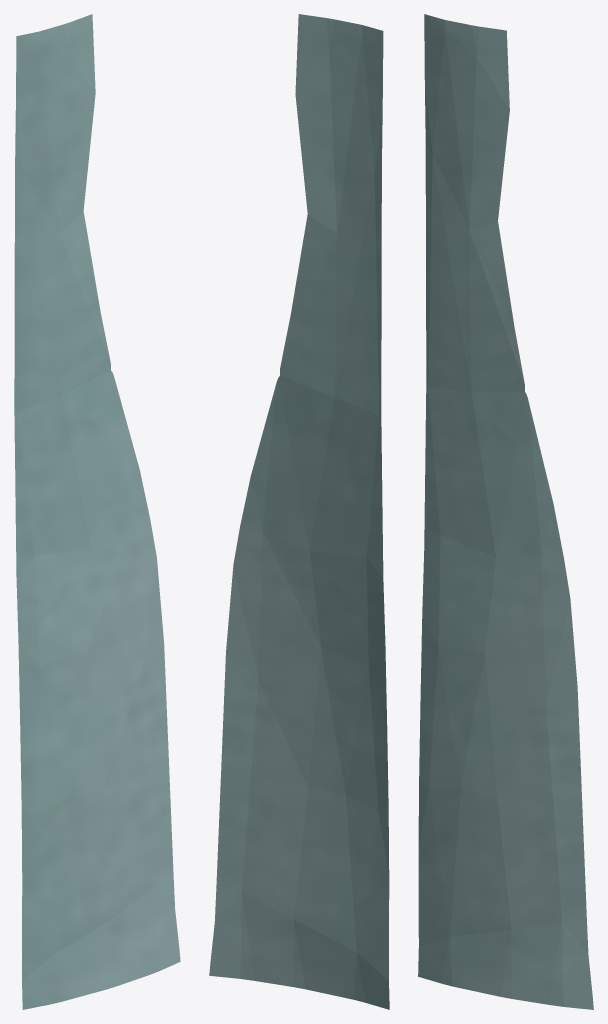
3 renders of one model, left to right at view 1: azimuth 30°, elevation 25°; view 2: azimuth 150°, elevation 25°; view 3: azimuth 330°, elevation 25°, orthographic. The views are drawn at different scales.
Size of the model in its own units: 15.54 by 85.74 by 1.83.
1 material, 1 textured.
